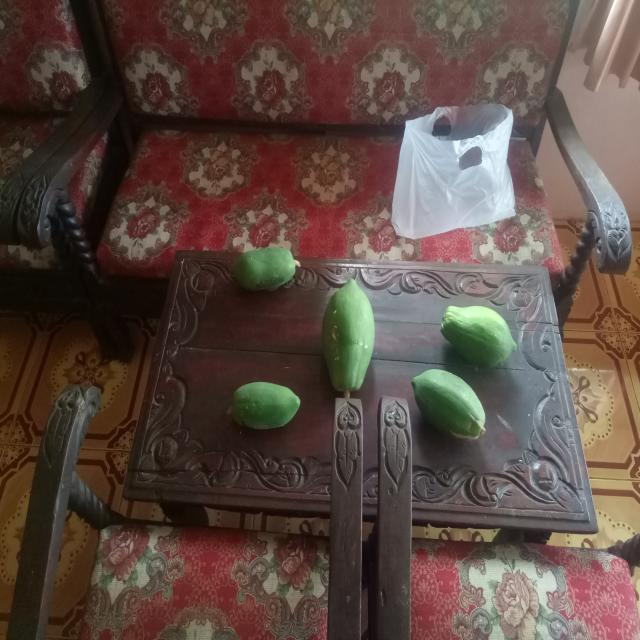Pepaya unrippen: (404, 366, 486, 446), (316, 279, 371, 397), (434, 305, 522, 364), (228, 375, 301, 431), (238, 240, 300, 284)
